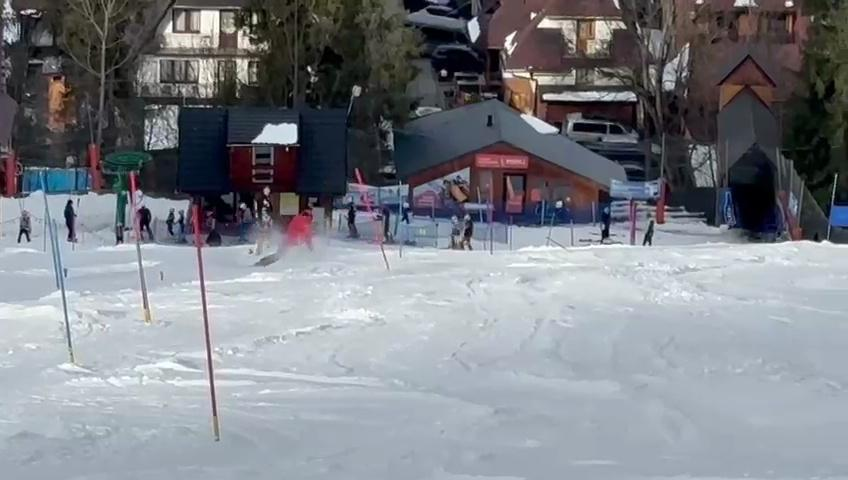gate: (181, 198, 247, 453)
